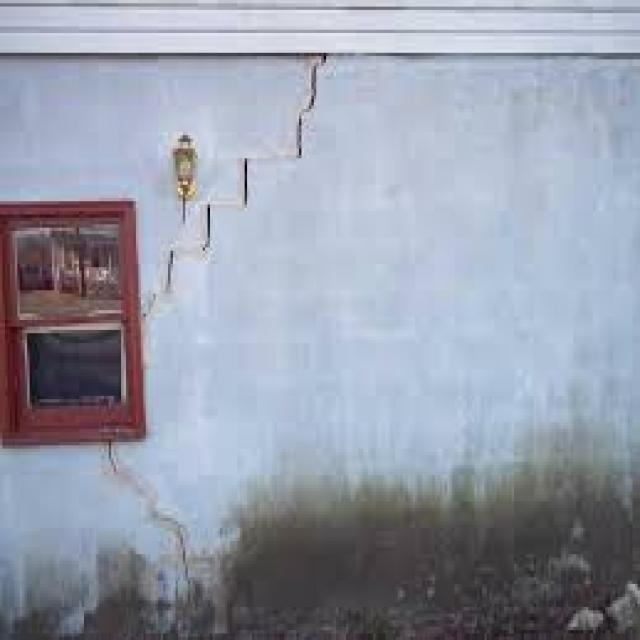Crack: (138, 53, 329, 320), (104, 439, 188, 587)
